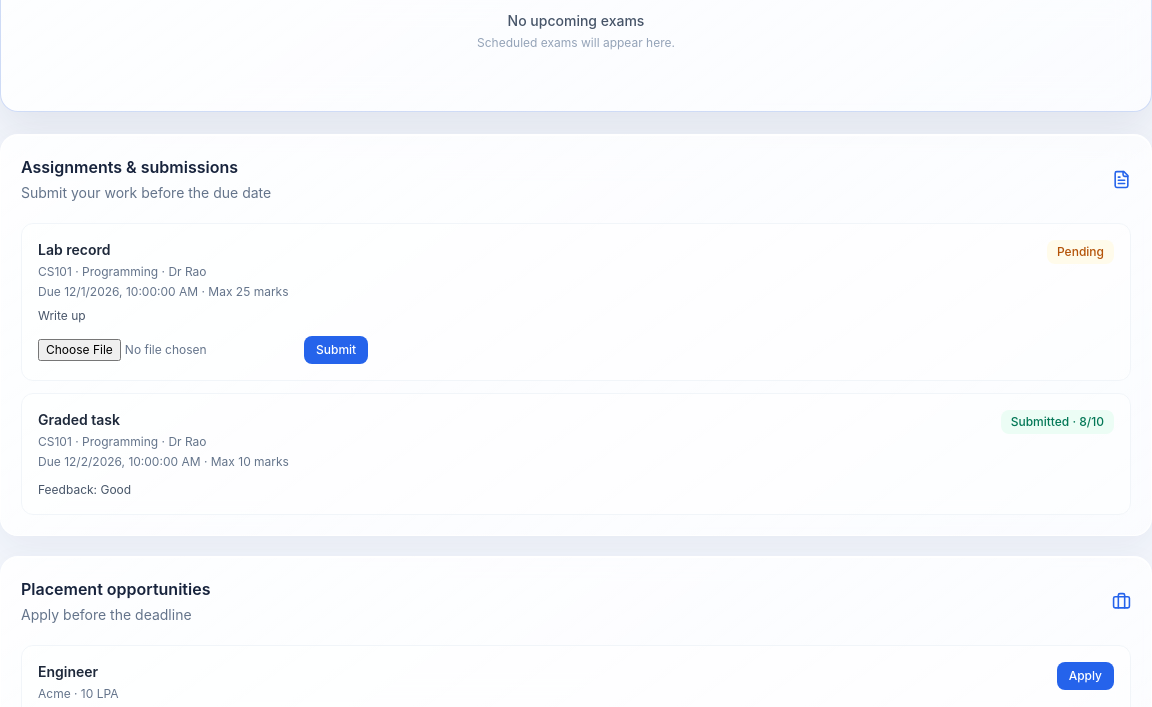
it: StudentPortal › shows an error when submission fails
This screenshot has width=1152, height=707.
(page scrolled)
Check: the text "Lab record" is shown, box [38,241,110,258]
Click the button "Submit" at (336, 350), box [304,336,368,364]
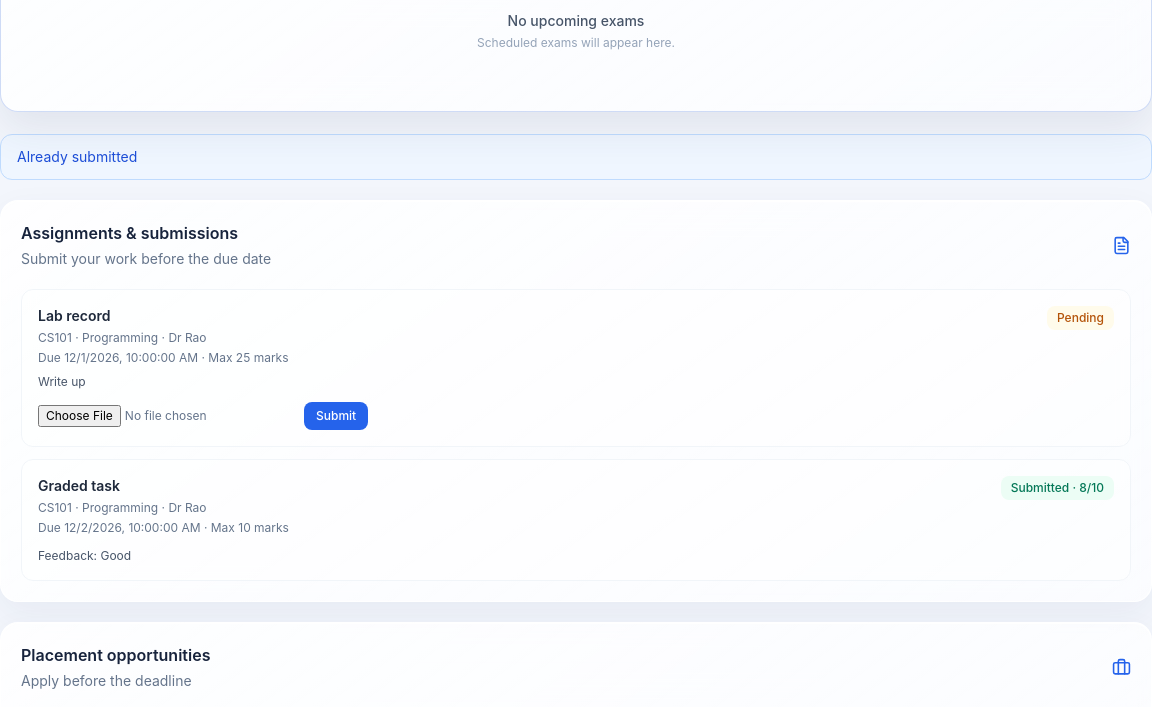
Check: the text "Already submitted" is shown, box [0,134,1151,180]
